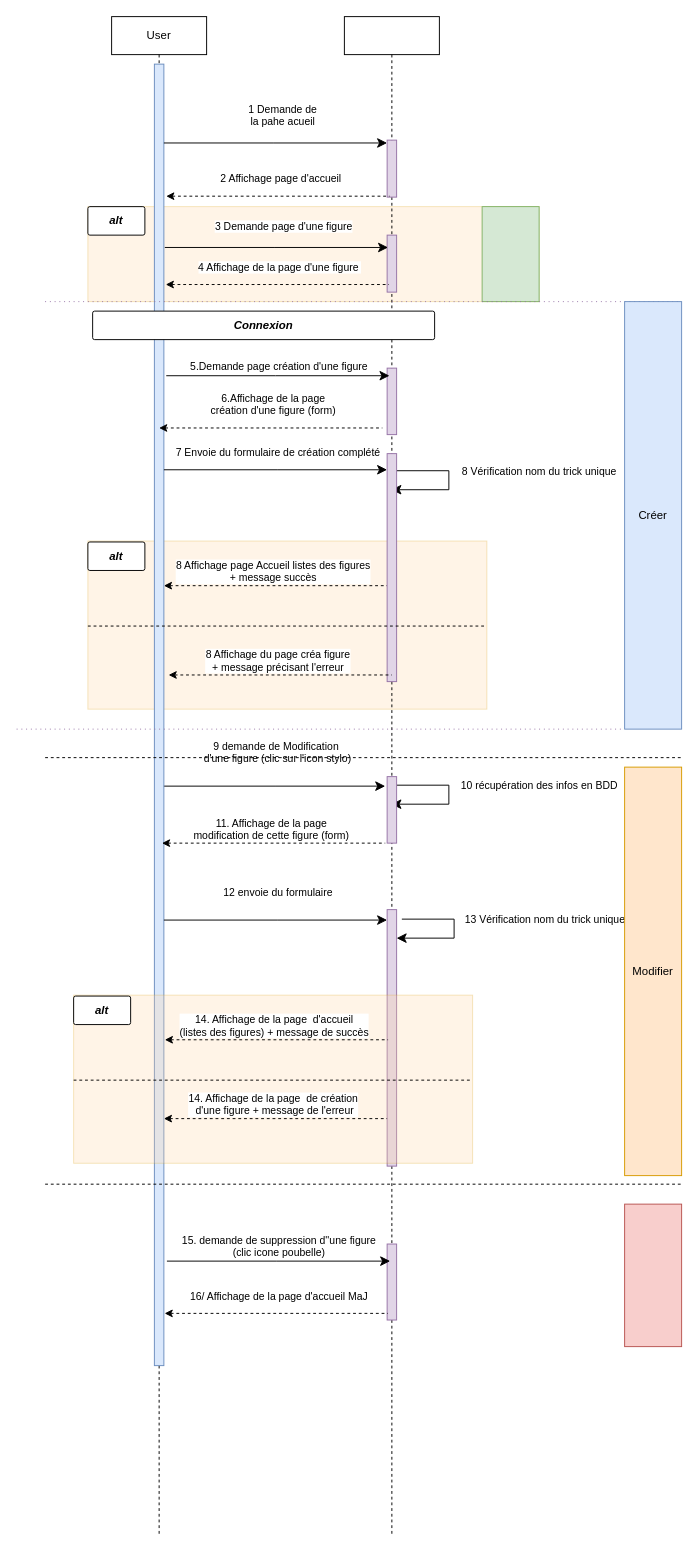
This 699x1553 diagram has some shape labels left out. Each missing label, with the centre of its shape:
"Lire" goes at (x=510, y=254).
"Supprimer" goes at (x=653, y=1275).
"System" goes at (x=391, y=776).
